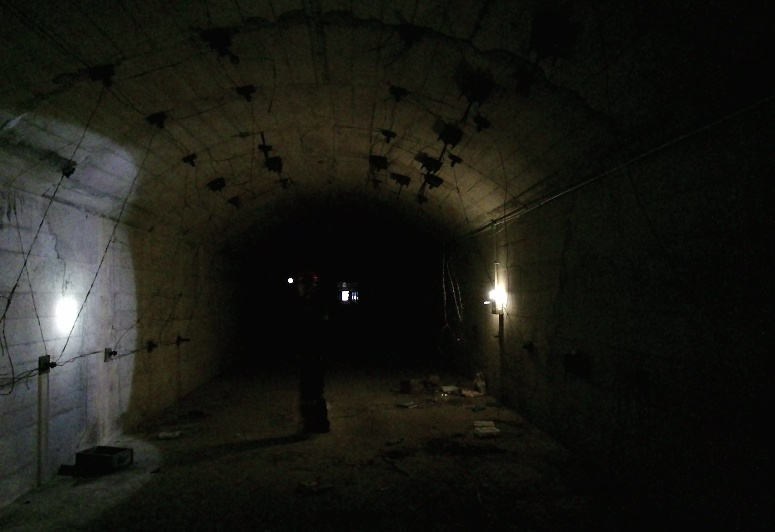person: (299, 271, 353, 435)
